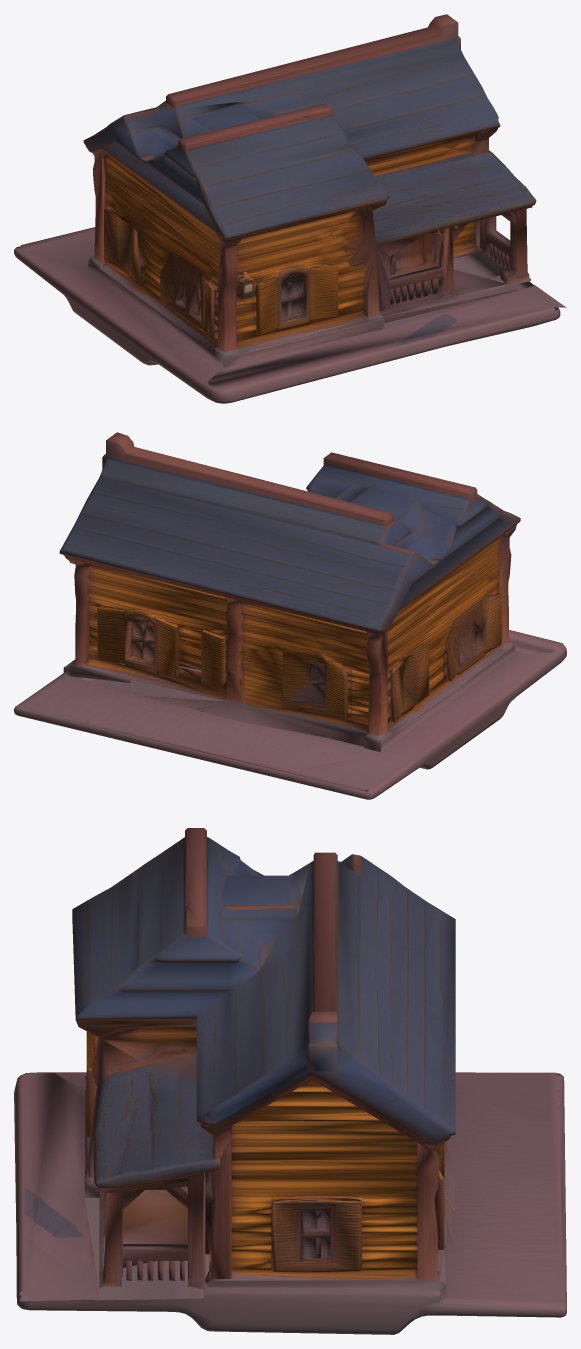
File: small_house.glb
The picture shows the model from 3 angles, top to bottom: view 1: azimuth 30°, elevation 25°; view 2: azimuth 150°, elevation 25°; view 3: azimuth 270°, elevation 25°; orthographic projection. The views are drawn at different scales.
Parts seen in each view (by area): view 1: texture_pbr_v128; view 2: texture_pbr_v128; view 3: texture_pbr_v128.
Boxes of the visible parts, x1,y1,x2,y2 form: texture_pbr_v128: (14,14,566,403); texture_pbr_v128: (14,432,566,799); texture_pbr_v128: (14,828,566,1334).
Size of the model in its own units: 1.9 by 1.18 by 1.87.
1 material, 1 textured.
